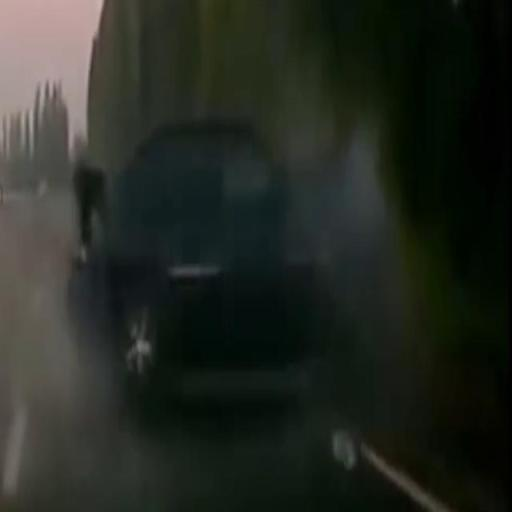小汽车: (96, 114, 334, 410)
